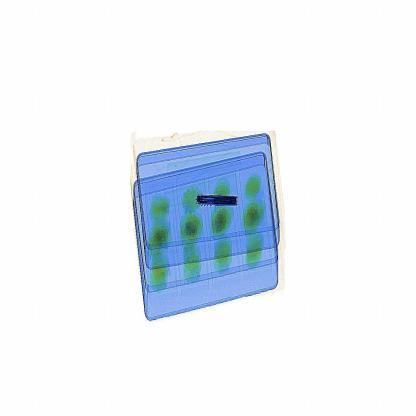scissors: (188, 182, 247, 216)
